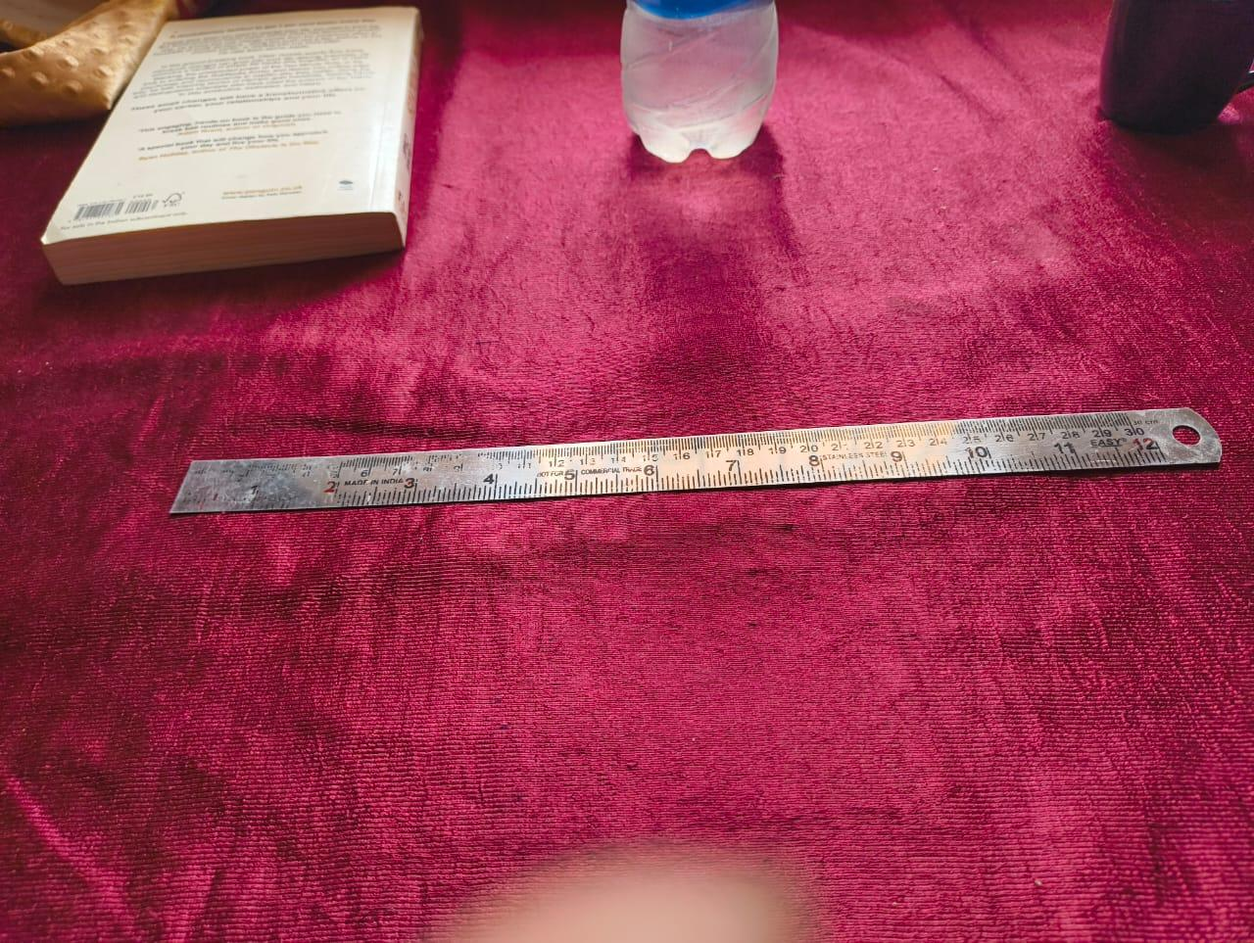Book: (42, 18, 415, 292)
Bottle: (621, 0, 784, 168)
Cup: (1104, 0, 1253, 147)
scale: (168, 405, 1223, 521)
